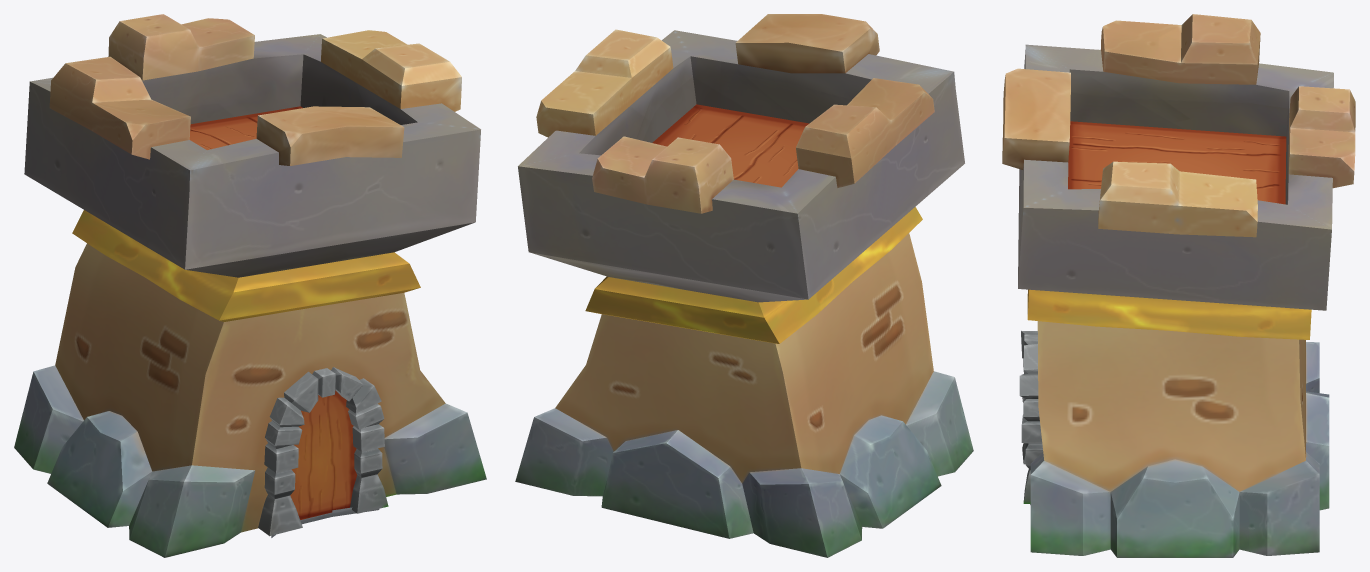
The model's file is casttlenoterrain.fbx.
3 renders of one model, left to right at view 1: azimuth 30°, elevation 25°; view 2: azimuth 150°, elevation 25°; view 3: azimuth 270°, elevation 25°, orthographic. The views are drawn at different scales.
Visible parts, largest first — view 1: Castle; view 2: Castle; view 3: Castle.
Part boxes in pixels (x1,y1,x2,y2): Castle: [14, 14, 486, 557]; Castle: [515, 14, 973, 557]; Castle: [1002, 14, 1355, 557].
Size of the model in its own units: 418 by 480 by 386.
